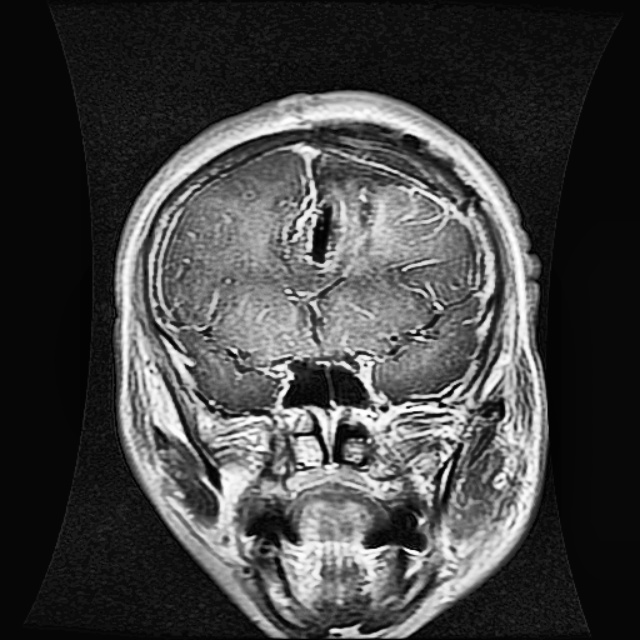Glioma: (307, 154, 415, 269)
